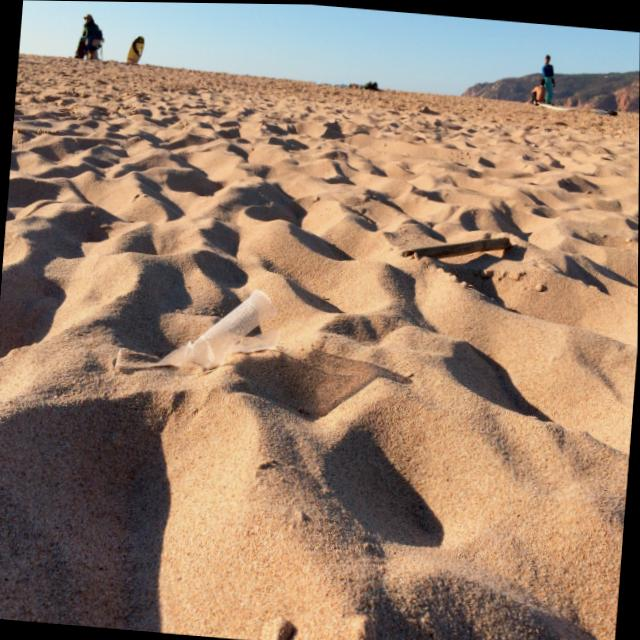Plastic: (109, 269, 289, 389)
